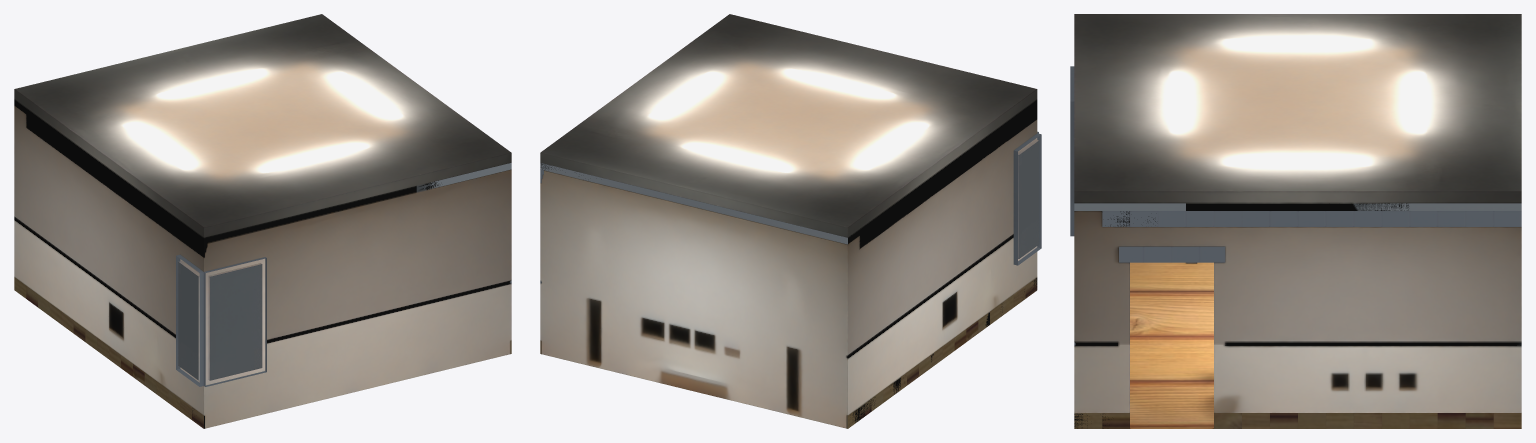
The model's file is encounter-room.glb.
The picture shows the model from 3 angles, left to right: view 1: azimuth 30°, elevation 25°; view 2: azimuth 150°, elevation 25°; view 3: azimuth 270°, elevation 25°; orthographic projection. The views are drawn at different scales.
Visible parts, largest first — view 1: InteriorTest baked clinical room; view 2: InteriorTest baked clinical room; view 3: InteriorTest baked clinical room.
Boxes of the visible parts, x1,y1,x2,y2 form: InteriorTest baked clinical room: [14, 14, 511, 428]; InteriorTest baked clinical room: [540, 14, 1041, 428]; InteriorTest baked clinical room: [1070, 14, 1521, 428].
Size of the model in its own units: 12.17 by 7.5 by 12.91.
Materials: 2 (2 with a texture image).
